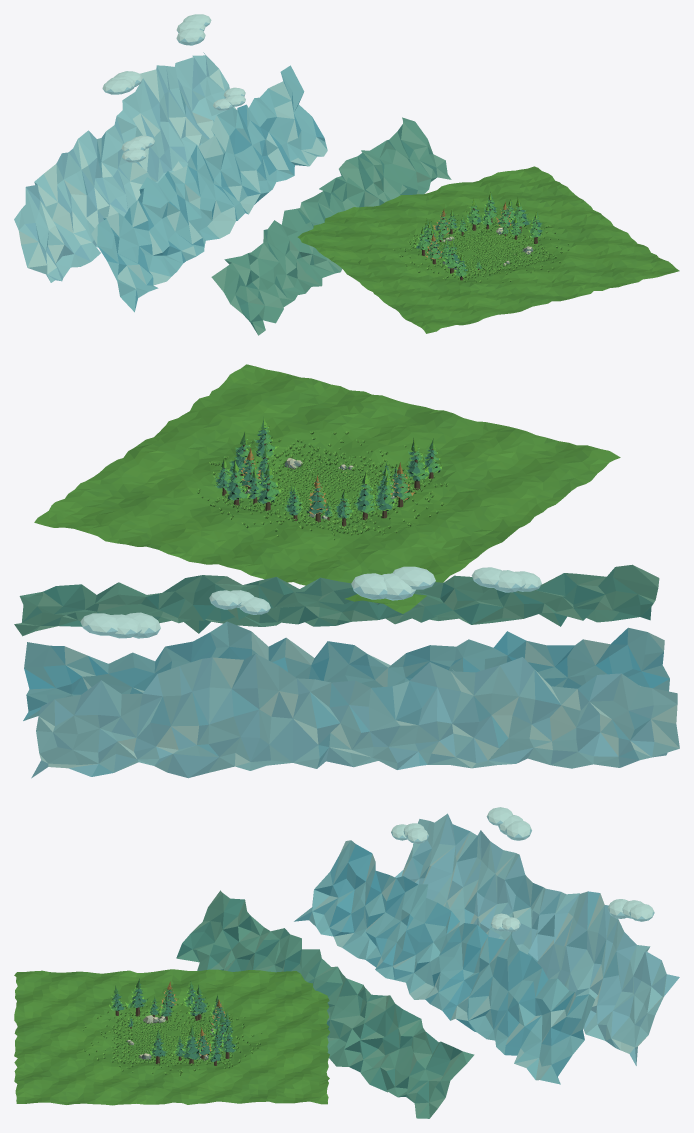
File: forest-fluffy.glb
3 renders of one model, top to bottom at view 1: azimuth 30°, elevation 25°; view 2: azimuth 150°, elevation 25°; view 3: azimuth 270°, elevation 25°, orthographic. The views are drawn at different scales.
Parts seen in each view (by area): view 1: Distant mountain and cloud sky, Emerald meadow facets, Fluffy meadow grass, Alpine pine grove; view 2: Distant mountain and cloud sky, Emerald meadow facets, Alpine pine grove, Fluffy meadow grass; view 3: Distant mountain and cloud sky, Emerald meadow facets, Alpine pine grove, Fluffy meadow grass.
Boxes of the visible parts, bbox=[...] form: Distant mountain and cloud sky: bbox=[14, 14, 451, 335]; Emerald meadow facets: bbox=[297, 166, 679, 333]; Fluffy meadow grass: bbox=[393, 210, 569, 282]; Alpine pine grove: bbox=[414, 191, 543, 280]; Distant mountain and cloud sky: bbox=[14, 564, 679, 778]; Emerald meadow facets: bbox=[34, 364, 620, 613]; Alpine pine grove: bbox=[214, 417, 442, 526]; Fluffy meadow grass: bbox=[196, 431, 448, 539]; Distant mountain and cloud sky: bbox=[176, 807, 679, 1118]; Emerald meadow facets: bbox=[14, 969, 329, 1105]; Alpine pine grove: bbox=[109, 978, 237, 1065]; Fluffy meadow grass: bbox=[82, 997, 261, 1075].
Size of the model in its own units: 104 by 29.82 by 117.
